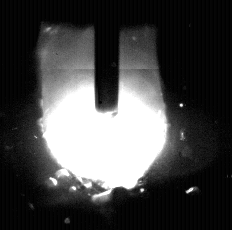arame: (95, 0, 121, 119)
poca: (41, 0, 170, 230)
